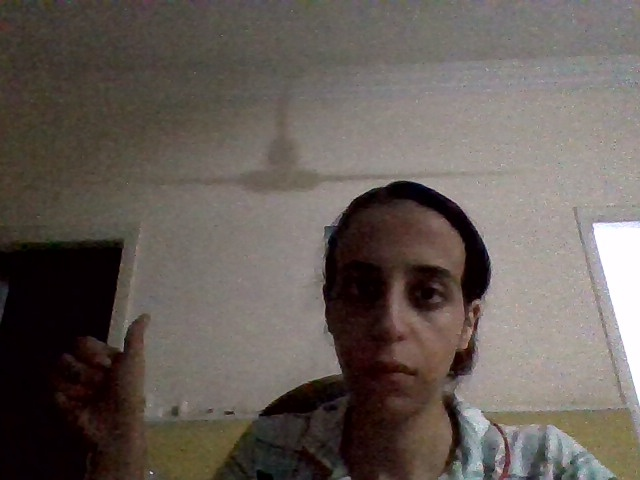ThumbsUp: (54, 312, 150, 449)
